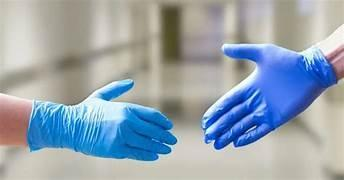Glove: (202, 44, 336, 148), (27, 80, 176, 160)
